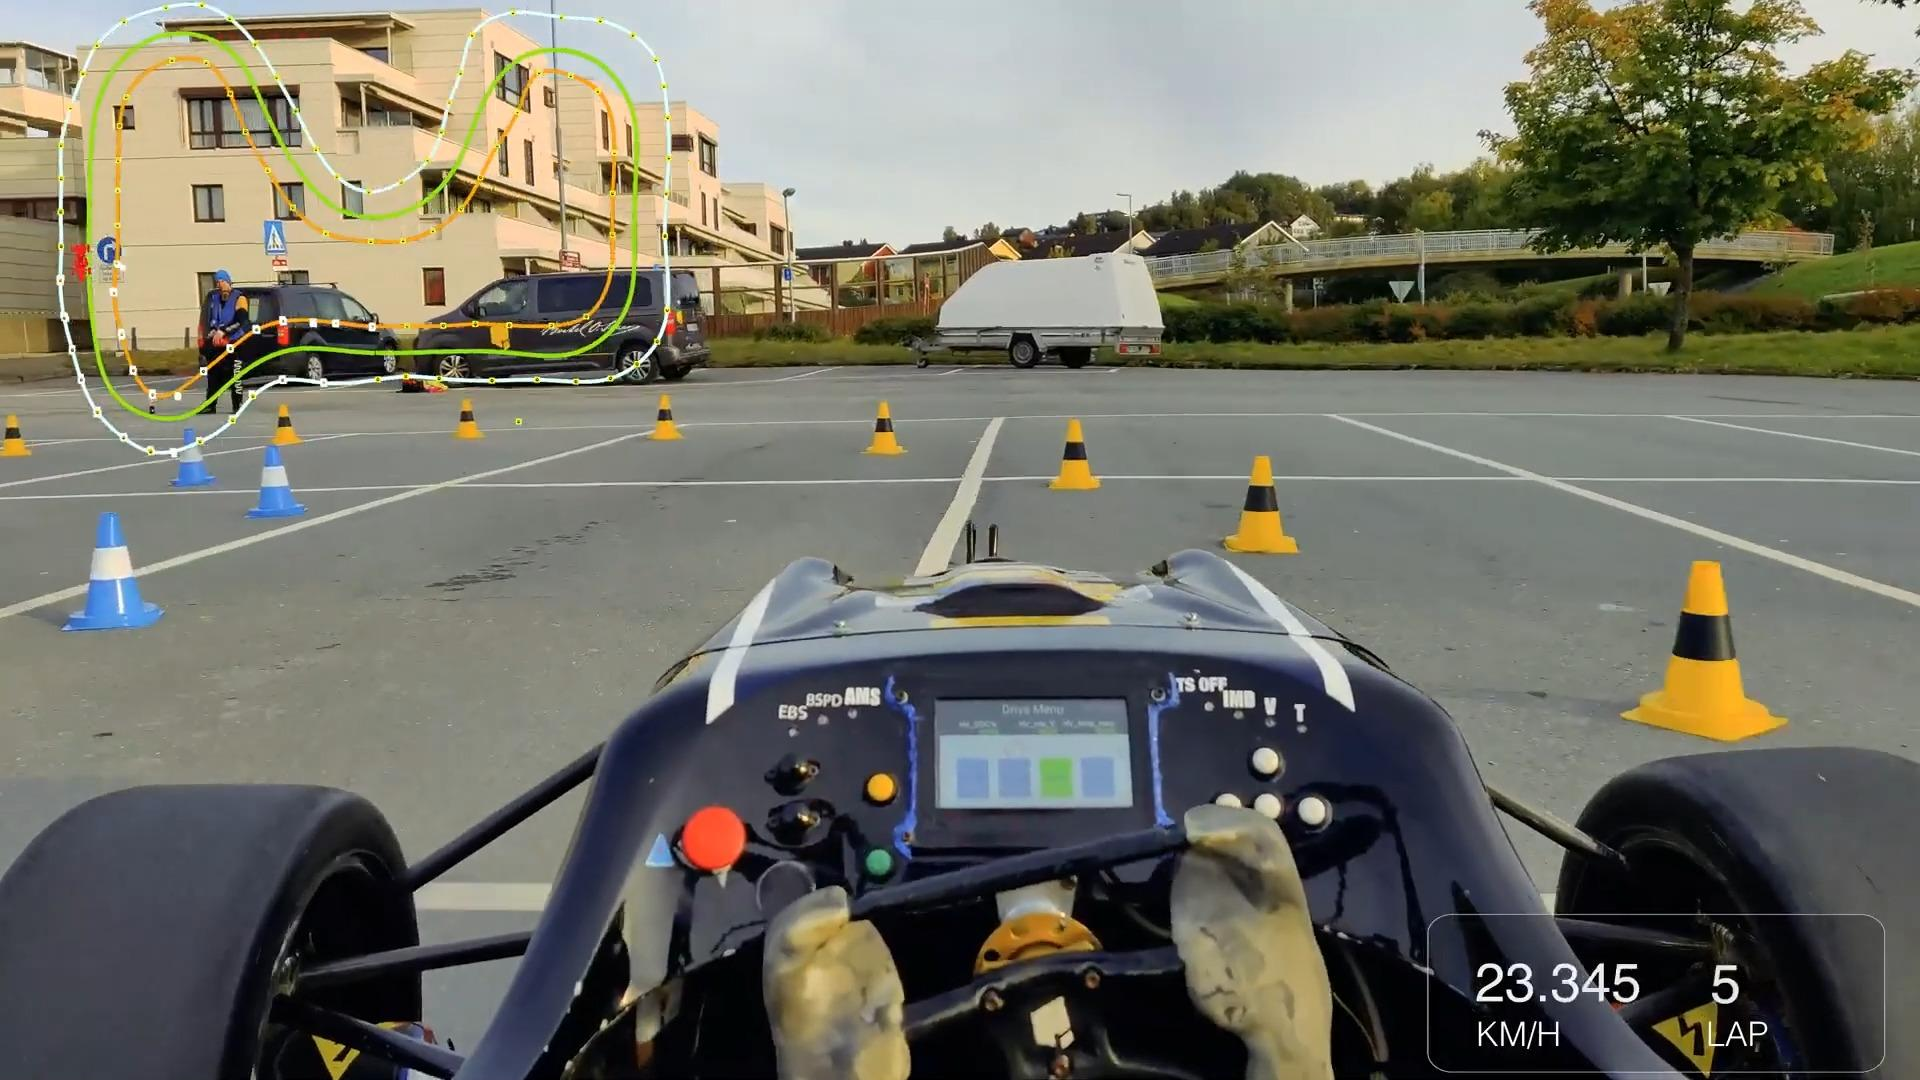blue_cone: (57, 504, 165, 637), (243, 444, 309, 526), (167, 425, 216, 493)
yellow_cone: (1615, 550, 1791, 744), (1218, 451, 1307, 555), (1038, 415, 1108, 495), (858, 396, 913, 462), (266, 398, 307, 447), (0, 407, 34, 462), (646, 392, 682, 443), (451, 394, 485, 443)
